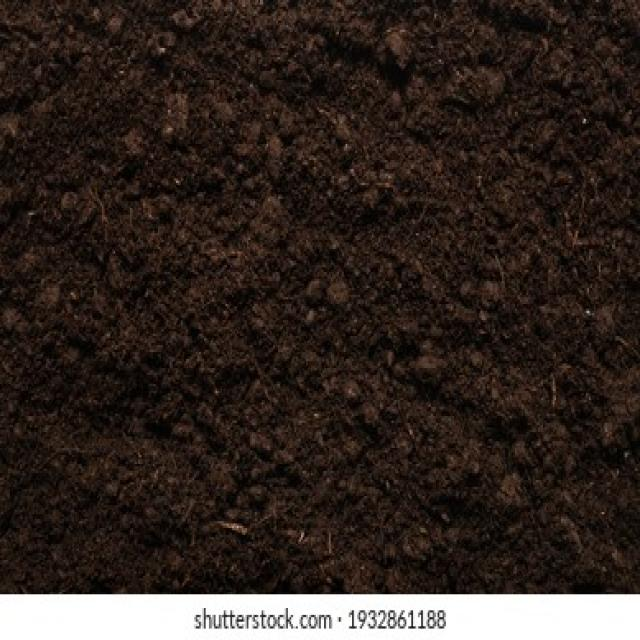Black Soil: (83, 97, 580, 510)
